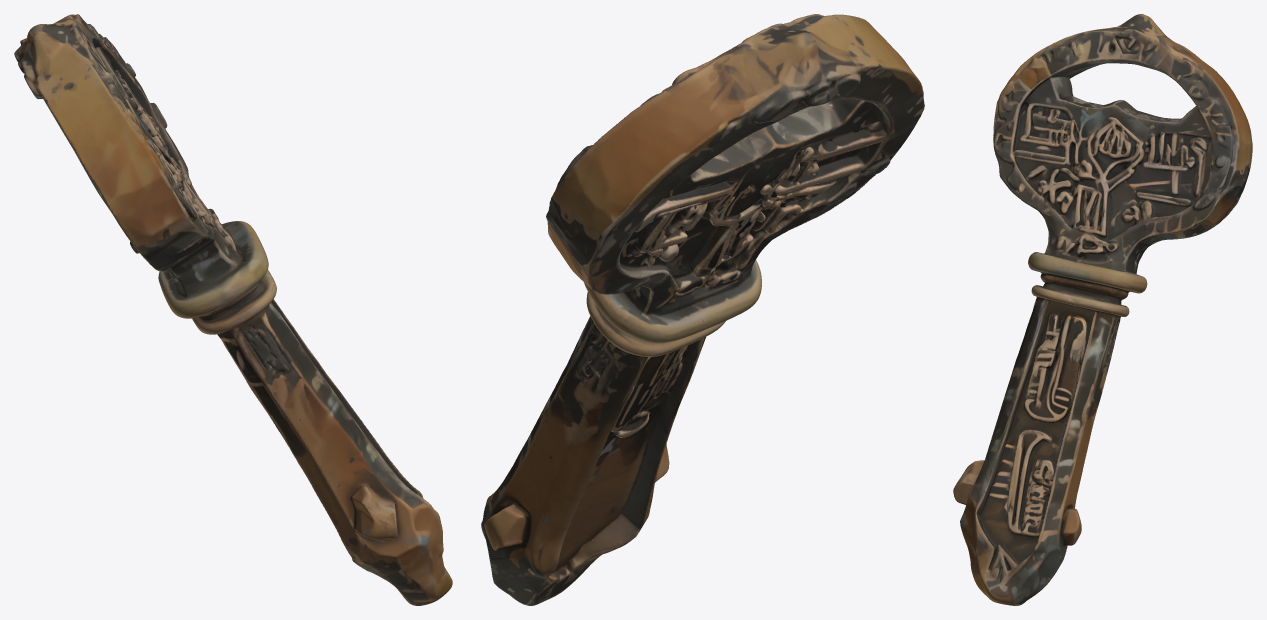
The model's file is prop_vaelor_key.glb.
The picture shows the model from 3 angles, left to right: view 1: azimuth 30°, elevation 25°; view 2: azimuth 150°, elevation 25°; view 3: azimuth 270°, elevation 25°; orthographic projection. The views are drawn at different scales.
Visible parts, largest first — view 1: tripo_node_fc8d93ac-b99c-4fb0-929b-ac9bd457dcb8; view 2: tripo_node_fc8d93ac-b99c-4fb0-929b-ac9bd457dcb8; view 3: tripo_node_fc8d93ac-b99c-4fb0-929b-ac9bd457dcb8.
Part boxes in pixels (x1,y1,x2,y2): tripo_node_fc8d93ac-b99c-4fb0-929b-ac9bd457dcb8: (14, 14, 452, 605); tripo_node_fc8d93ac-b99c-4fb0-929b-ac9bd457dcb8: (481, 14, 924, 605); tripo_node_fc8d93ac-b99c-4fb0-929b-ac9bd457dcb8: (953, 14, 1252, 605).
Bounding box in the file's own units: 0.6288 × 1 × 0.573.
Materials: 1 (1 with a texture image).
